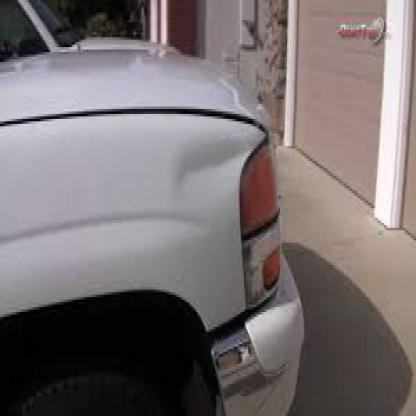dent: (174, 144, 238, 198)
